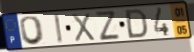4: (153, 7, 171, 38)
D: (125, 8, 148, 40)
I: (52, 13, 65, 46)
O: (19, 15, 46, 46)
X: (70, 12, 97, 43)
Z: (93, 10, 122, 42)
